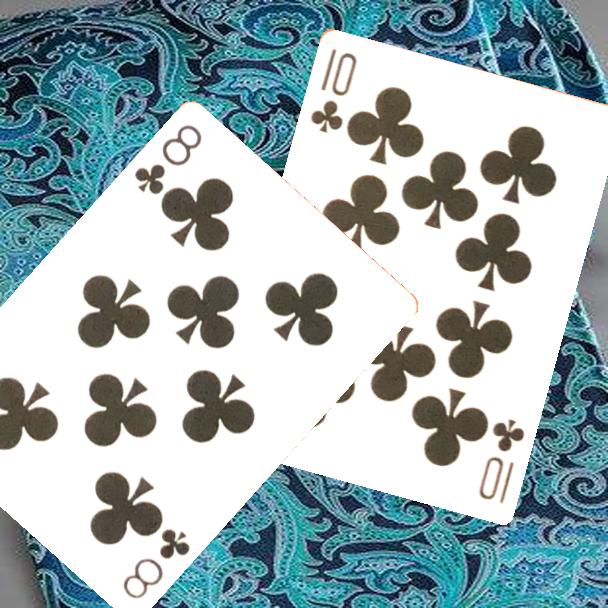c08: (130, 121, 206, 199), (119, 525, 193, 603)
c10: (307, 45, 360, 136), (475, 415, 527, 506)
